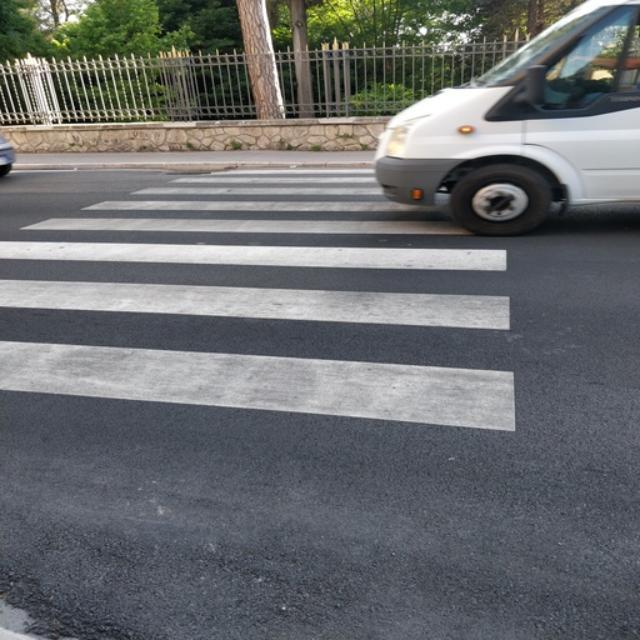sidewalk: (0, 131, 533, 640)
